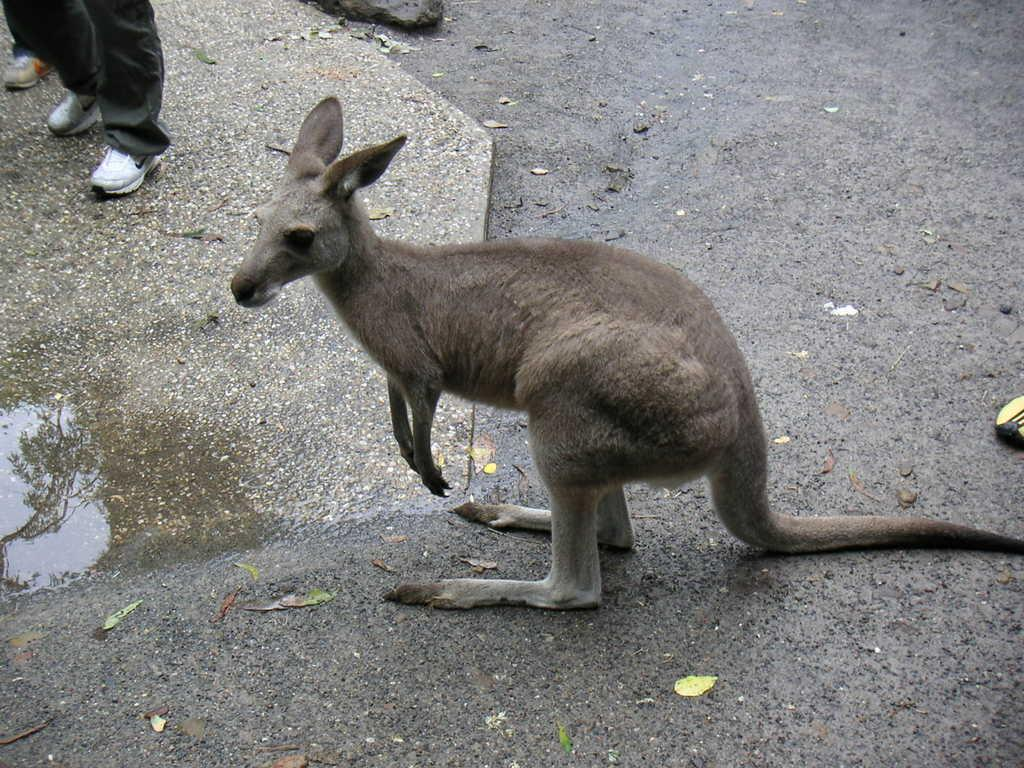kangaroo: (232, 94, 1024, 613)
